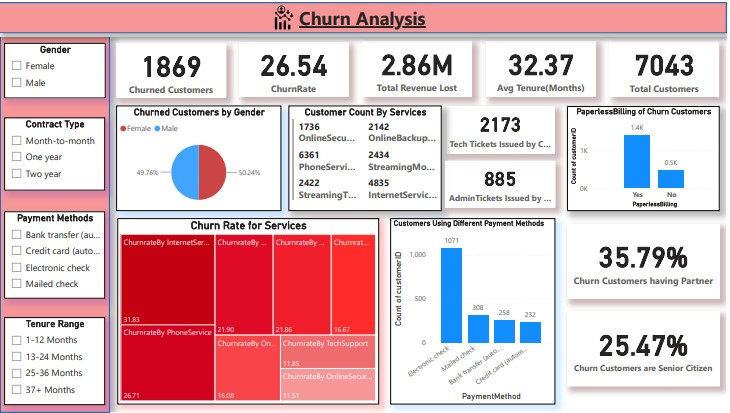

The dashboard page shown, as its layout file describes it:
{"tool":"powerbi","page":{"name":"Overview","canvas":[1280,720],"ordinal":0},"visuals":[{"type":"shape","box":[3.3,58.3,191.7,661.7],"z":0},{"type":"card","fields":{"Values":["CountNonNull(Churn Dataset.customerID)"]},"box":[206.7,71.7,193.3,95],"z":1000},{"type":"shape","box":[0,0,1280,52.5],"z":2000},{"type":"textbox","box":[0,0,1280,60],"z":3000},{"type":"shape","box":[0,0,1280,105],"z":4000},{"type":"card","fields":{"Values":["ChurnDataset.ChurnRate"]},"box":[423.3,70,191.7,95],"z":5000},{"type":"card","fields":{"Values":["Sum(ChurnDataset.TotalCharges)"]},"box":[640,68.3,191.7,96.7],"z":6000},{"type":"card","fields":{"Values":["Avg(ChurnDataset.tenure)"]},"box":[858.3,68.3,191.7,96.7],"z":7000},{"type":"card","fields":{"Values":["ChurnDataset.TotalCustomers"]},"box":[1075,68.8,192.5,96.2],"z":8000},{"type":"slicer","title":"Gender","fields":{"Values":["ChurnDataset.gender"]},"box":[10,71.2,177.5,96.2],"z":9000},{"type":"slicer","title":"Contract Type","fields":{"Values":["ChurnDataset.Contract"]},"box":[10,201.7,176.7,128.3],"z":10000},{"type":"slicer","title":"Payment Methods","fields":{"Values":["ChurnDataset.PaymentMethod"]},"box":[10,366.7,176.7,153.3],"z":11000},{"type":"slicer","title":"Tenure Range","fields":{"Values":["ChurnDataset.TenureRange"]},"box":[10,553.3,176.7,153.3],"z":12000},{"type":"pieChart","title":"Churned Customers by Gender","fields":{"Y":["CountNonNull(ChurnDataset.gender)"],"Category":["ChurnDataset.gender"]},"box":[207.1,181.4,290,184.3],"z":13000},{"type":"card","fields":{"Values":["Sum(ChurnDataset.numTechTickets)"]},"box":[786.7,181.7,191.7,83.3],"z":14000},{"type":"treemap","title":"Churn Rate for Services","fields":{"Values":["ChurnDataset.ChurnrateBy InternetService","ChurnDataset.ChurnrateBy DeviceProtection","ChurnDataset.ChurnrateBy TechSupport","ChurnDataset.ChurnrateBy StreamingTV","ChurnDataset.ChurnrateBy StreamingMovies","ChurnDataset.ChurnrateBy PhoneService","ChurnDataset.ChurnrateBy OnlineSecurity","ChurnDataset.ChurnrateBy OnlineBackup"]},"box":[208.6,378.6,460,327.1],"z":15000},{"type":"clusteredColumnChart","title":"Customers Using Different Payment Methods","fields":{"Category":["ChurnDataset.PaymentMethod"],"Y":["CountNonNull(ChurnDataset.customerID)"]},"box":[688.6,378.6,290,327.1],"z":16000},{"type":"multiRowCard","title":"Customer Count By Services","fields":{"Values":["ChurnDataset.OnlineSecurityCount","ChurnDataset.OnlineBackupCount","ChurnDataset.PhoneService CustomerCount","ChurnDataset.StreamingMoviesCount","ChurnDataset.StreamingTVCount","ChurnDataset.InternetService CustomerCount"]},"box":[510,181.2,268.8,185],"z":17000},{"type":"card","fields":{"Values":["Sum(ChurnDataset.numAdminTickets)"]},"box":[786.2,277.5,192.5,82.5],"z":18000},{"type":"shape","box":[0,0,1280,52.5],"z":19000},{"type":"textbox","box":[0,0,1280,52.5],"z":20000},{"type":"clusteredColumnChart","title":"PaperlessBilling of Churn Customers","fields":{"Category":["ChurnDataset.PaperlessBilling"],"Y":["CountNonNull(ChurnDataset.customerID)"]},"box":[1000,182,268,184],"z":21000},{"type":"card","fields":{"Values":["ChurnDataset.%ofChurnCustomers with Partner"]},"box":[1000,388.8,267.5,131.2],"z":22000},{"type":"card","fields":{"Values":["ChurnDataset.%of ChurnCustomers are SeniorCitizen"]},"box":[1000,542.5,267.5,131.2],"z":22001},{"type":"image","box":[438.2,0,128.2,51.8],"z":22002}]}

Visuals, with their boxes in screenshot pixels (x1, y1, x2, y2), scaled from the page's 1280x720 canvas onto the 730x413 screenshot:
shape: 2/33/111/412
card - CountNonNull(Churn Dataset.customerID): 118/41/228/96
shape: 0/0/729/30
textbox: 0/0/729/34
shape: 0/0/729/60
card - ChurnDataset.ChurnRate: 241/40/351/95
card - Sum(ChurnDataset.TotalCharges): 365/39/474/95
card - Avg(ChurnDataset.tenure): 489/39/599/95
card - ChurnDataset.TotalCustomers: 613/39/723/95
"Gender" slicer: 6/41/107/96
"Contract Type" slicer: 6/116/106/189
"Payment Methods" slicer: 6/210/106/298
"Tenure Range" slicer: 6/317/106/405
"Churned Customers by Gender" pieChart: 118/104/284/210
card - Sum(ChurnDataset.numTechTickets): 449/104/558/152
"Churn Rate for Services" treemap: 119/217/381/405
"Customers Using Different Payment Methods" clusteredColumnChart: 393/217/558/405
"Customer Count By Services" multiRowCard: 291/104/444/210
card - Sum(ChurnDataset.numAdminTickets): 448/159/558/206
shape: 0/0/729/30
textbox: 0/0/729/30
"PaperlessBilling of Churn Customers" clusteredColumnChart: 570/104/723/210
card - ChurnDataset.%ofChurnCustomers with Partner: 570/223/723/298
card - ChurnDataset.%of ChurnCustomers are SeniorCitizen: 570/311/723/386
image: 250/0/323/30
